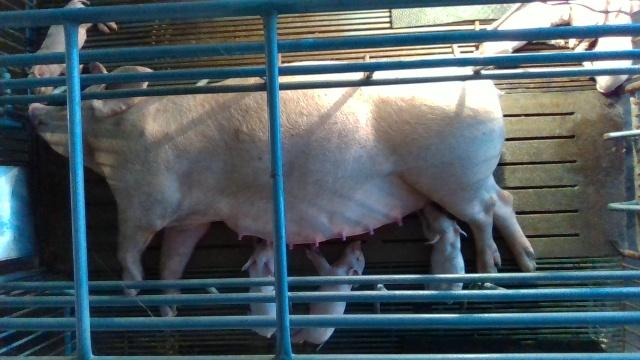piglet: (292, 238, 366, 351), (31, 1, 117, 95), (582, 0, 640, 95), (473, 2, 570, 55), (421, 203, 467, 305), (535, 0, 606, 52), (240, 242, 275, 338)
sow-sleep-lactate: (28, 65, 537, 318)
